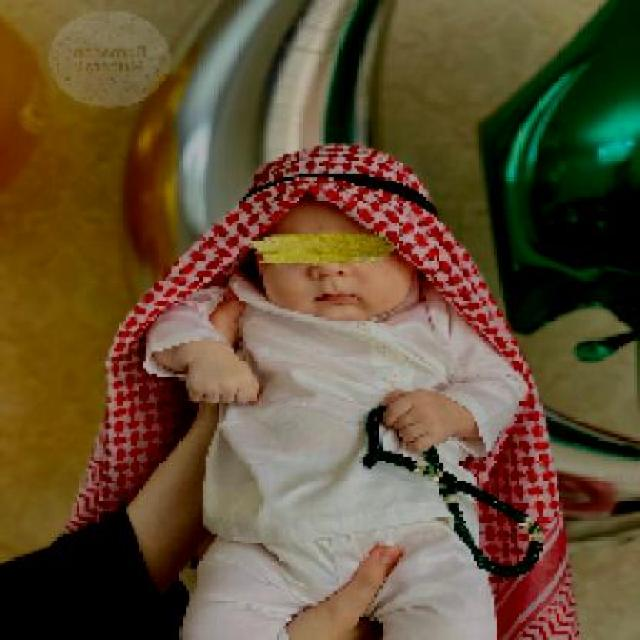child: (143, 142, 532, 638)
